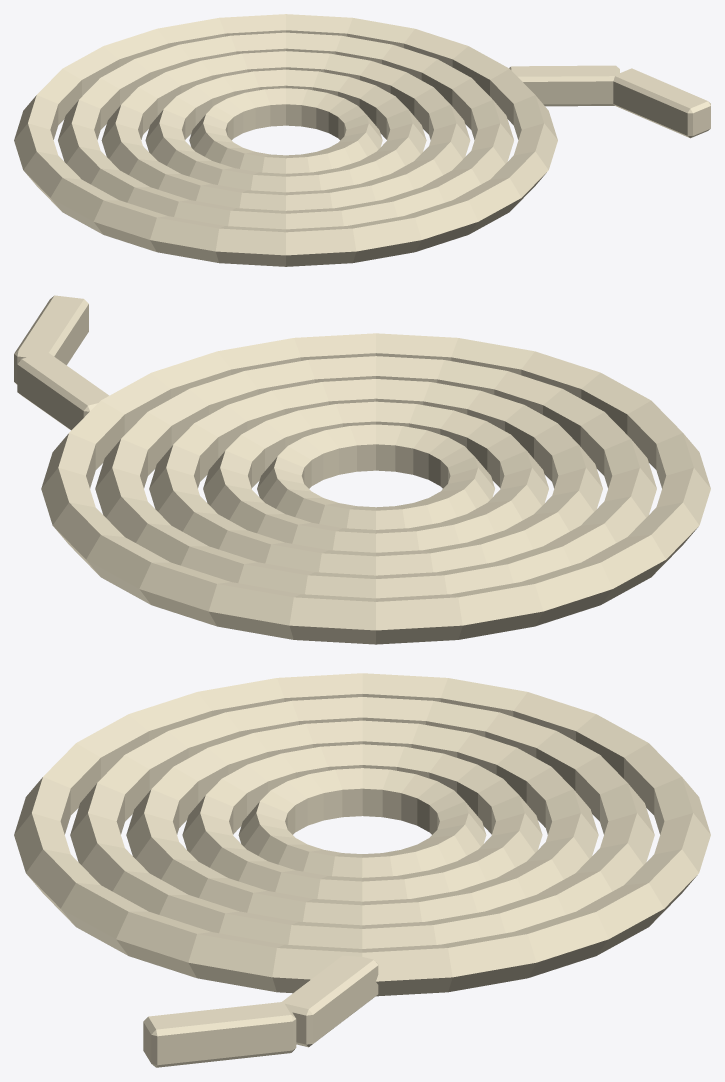
Rendered from 08_Rope_Coil.glb.
3 views of the same model, one above another, from view 1: azimuth 30°, elevation 25°; view 2: azimuth 150°, elevation 25°; view 3: azimuth 270°, elevation 25° (orthographic). The views are drawn at different scales.
Visible parts, largest first — view 1: 08_Rope_Coil__Body; view 2: 08_Rope_Coil__Body; view 3: 08_Rope_Coil__Body.
Boxes of the visible parts, x1,y1,x2,y2 form: 08_Rope_Coil__Body: (14,14,710,266); 08_Rope_Coil__Body: (14,295,710,644); 08_Rope_Coil__Body: (14,673,710,1067).
Bounding box in the file's own units: 1.84 × 0.1046 × 1.49.
Materials: 1 (1 with a texture image).
